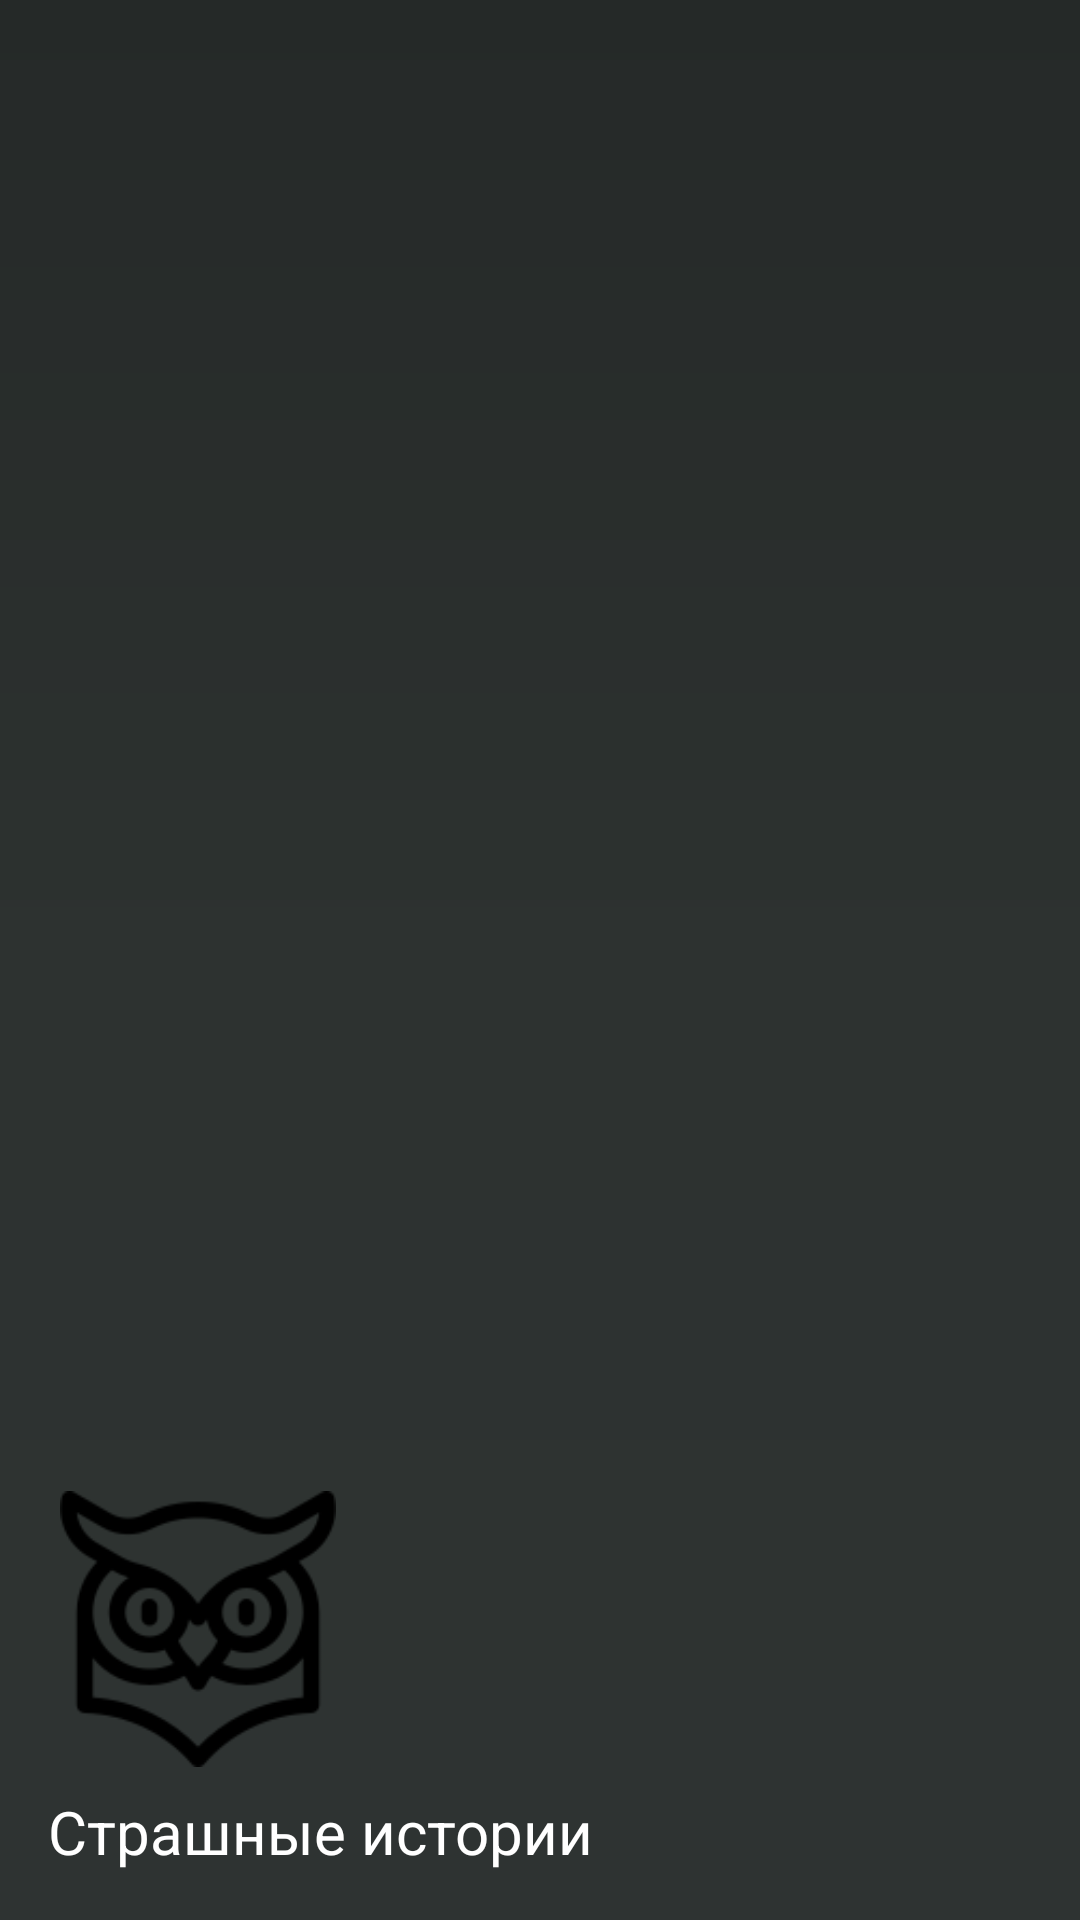

Locate icon controls on the screen. Image size 1080w x 1920h, boxes as [x1, y1, x2, y2].
owl: [60, 1491, 336, 1767]
